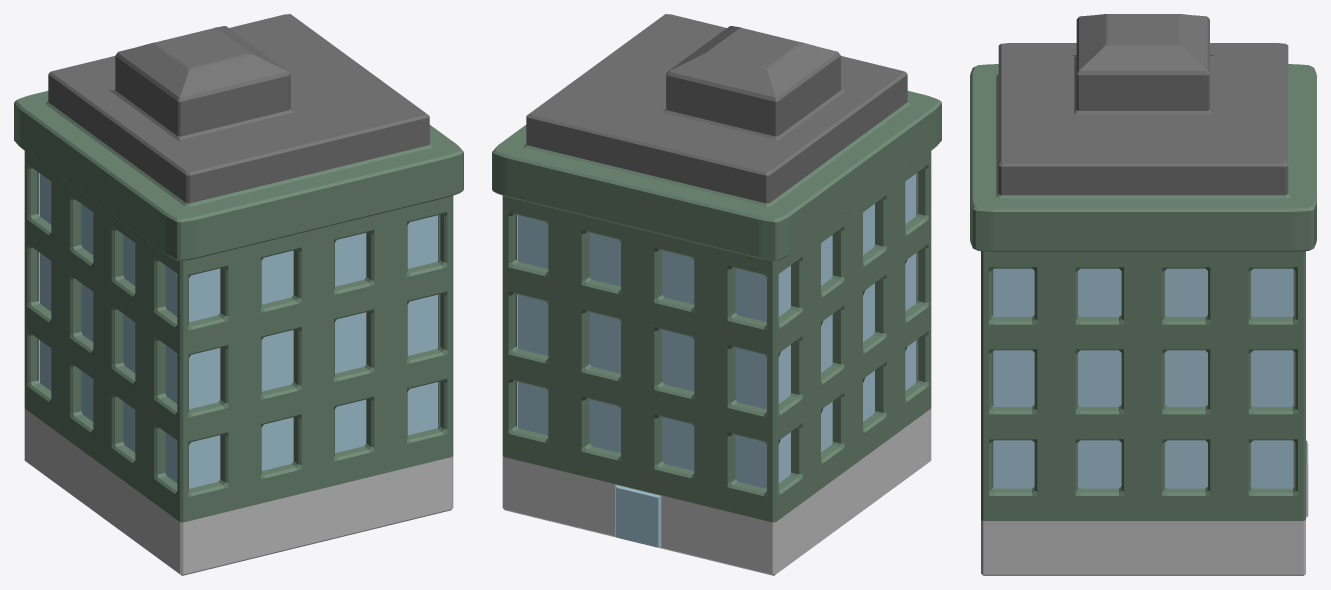
File: Building_002.fbx
3 views of the same model, side by side, from view 1: azimuth 30°, elevation 25°; view 2: azimuth 150°, elevation 25°; view 3: azimuth 270°, elevation 25° (orthographic). The views are drawn at different scales.
Parts seen in each view (by area): view 1: Building_002; view 2: Building_002; view 3: Building_002.
Part boxes in pixels (x1,y1,x2,y2): Building_002: [14, 14, 463, 575]; Building_002: [492, 14, 941, 575]; Building_002: [970, 14, 1316, 575].
Size of the model in its own units: 1873 by 2747 by 1873.
